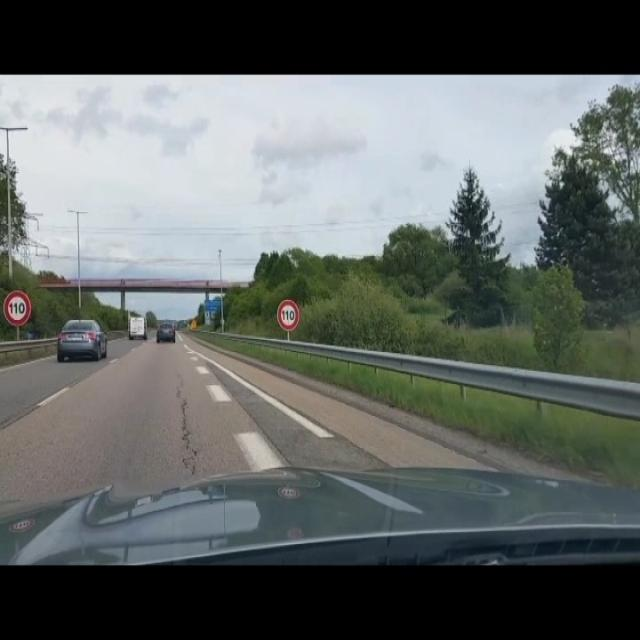speed_110: (3, 289, 32, 327), (277, 300, 300, 332)
